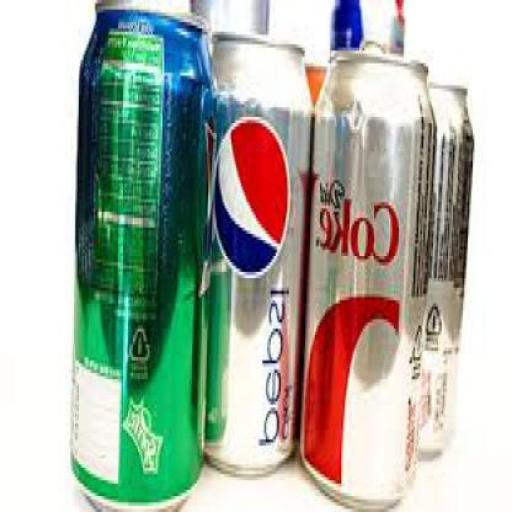metal: (72, 0, 220, 510), (300, 47, 438, 509), (209, 28, 312, 472), (420, 86, 476, 458), (332, 0, 408, 48), (191, 0, 272, 34), (306, 63, 328, 108)
